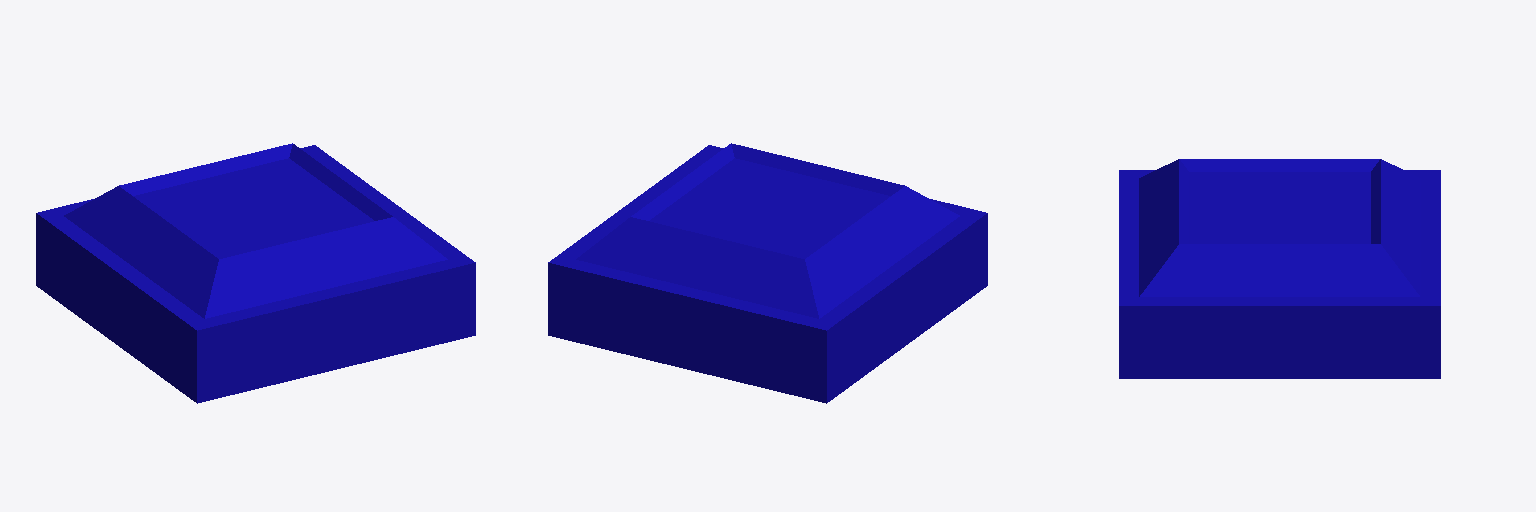
The model's file is SapphireChocolate.obj.
3 views of the same model, side by side, from view 1: azimuth 30°, elevation 25°; view 2: azimuth 150°, elevation 25°; view 3: azimuth 270°, elevation 25° (orthographic).
Parts seen in each view (by area): view 1: Union1; view 2: Union1; view 3: Union1.
Part boxes in pixels (left/top/right/bottom): Union1: left=36, top=143, right=475, bottom=403; Union1: left=548, top=143, right=987, bottom=403; Union1: left=1119, top=159, right=1440, bottom=378.
Size of the model in its own units: 4 by 1.5 by 4.